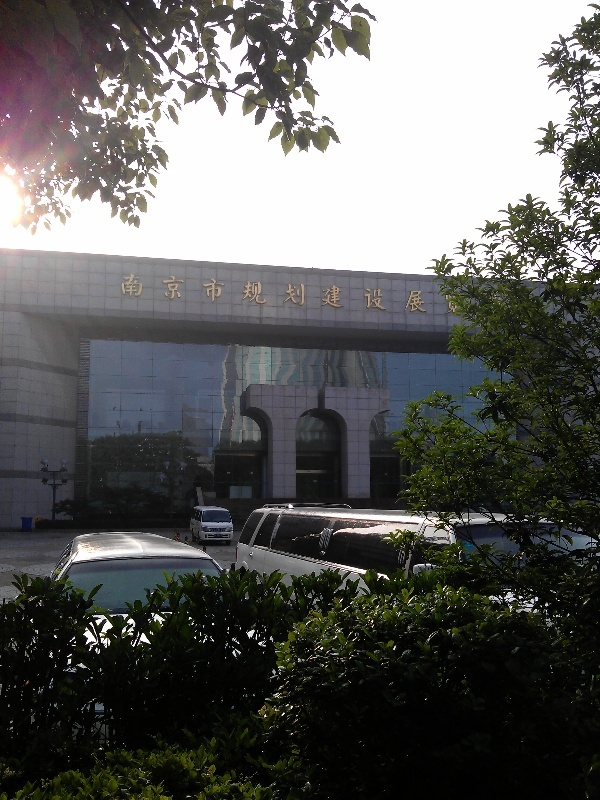text: (129, 274, 144, 315), (145, 274, 160, 315), (161, 274, 176, 315), (177, 274, 192, 315), (193, 274, 208, 315), (209, 274, 224, 315), (225, 274, 240, 315), (241, 274, 256, 315), (257, 274, 272, 315), (273, 274, 288, 315), (289, 274, 304, 315), (305, 274, 320, 315), (321, 274, 336, 315), (337, 274, 352, 315), (353, 274, 368, 315), (369, 274, 384, 315), (385, 274, 400, 315), (401, 274, 416, 315), (417, 274, 432, 315), (433, 274, 448, 315), (449, 274, 463, 315), (120, 274, 128, 315)
